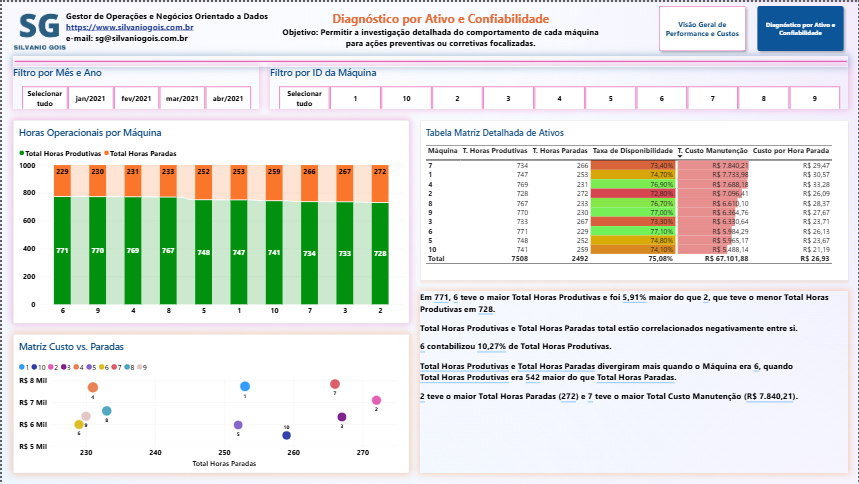

This screenshot's page, from the dashboard's own definition file:
{"tool":"powerbi","page":{"name":"Diagnóstico por Ativo e Confiabilidade","canvas":[1920,1080],"ordinal":1},"visuals":[{"type":"textbox","box":[624,0,720,120],"z":0},{"type":"pageNavigator","box":[1464,0,432,120],"z":1000},{"type":"image","box":[24,0,120,120],"z":2000},{"type":"textbox","box":[144,0,480,120],"z":3000},{"type":"shape","box":[24,120,1872,24],"z":3001},{"type":"slicer","title":"Filtro por Mês e Ano","fields":{"Values":["dCalendario.Mês/Ano"]},"box":[24,144,552,96],"z":3002},{"type":"slicer","title":"Filtro por ID da Máquina","fields":{"Values":["fManutencao.Máquina"]},"box":[600,144,1296,96],"z":3003},{"type":"columnChart","title":"Horas Operacionais por Máquina","fields":{"Category":["fManutencao.Máquina"],"Y":["Medidas.Total Horas Produtivas","Medidas.Total Horas Paradas"]},"box":[24,264,888,456],"z":3004},{"type":"scatterChart","title":"Matriz Custo vs. Paradas","fields":{"Series":["fManutencao.Máquina"],"Size":["Medidas.Custo por Hora Parada"],"X":["Medidas.Total Horas Paradas"],"Y":["Medidas.Total Custo Manutenção"]},"box":[24,744,888,312],"z":3005},{"type":"pivotTable","title":"Tabela Matriz Detalhada de Ativos","fields":{"Rows":["fManutencao.Máquina"],"Values":["Medidas.Total Horas Produtivas","Medidas.Total Horas Paradas","Medidas.Taxa de Disponibilidade (%)","Medidas.Total Custo Manutenção","Medidas.Custo por Hora Parada"]},"box":[936,264,960,360],"z":3006},{"type":"textbox","box":[936,648,960,408],"z":3007}]}

Visuals, with their boxes in screenshot pixels (x1, y1, x2, y2), scaled from the page's 1920x1080 canvas onto the 859x484 screenshot:
textbox: BBox(279, 0, 601, 54)
pageNavigator: BBox(655, 0, 848, 54)
image: BBox(11, 0, 64, 54)
textbox: BBox(64, 0, 279, 54)
shape: BBox(11, 54, 848, 65)
"Filtro por Mês e Ano" slicer: BBox(11, 65, 258, 108)
"Filtro por ID da Máquina" slicer: BBox(268, 65, 848, 108)
"Horas Operacionais por Máquina" columnChart: BBox(11, 118, 408, 323)
"Matriz Custo vs. Paradas" scatterChart: BBox(11, 333, 408, 473)
"Tabela Matriz Detalhada de Ativos" pivotTable: BBox(419, 118, 848, 280)
textbox: BBox(419, 290, 848, 473)
